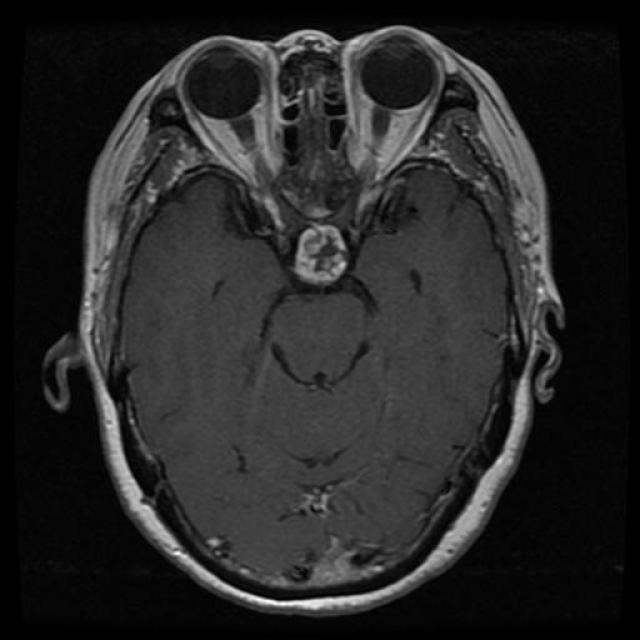pituitary: (276, 192, 371, 313)
